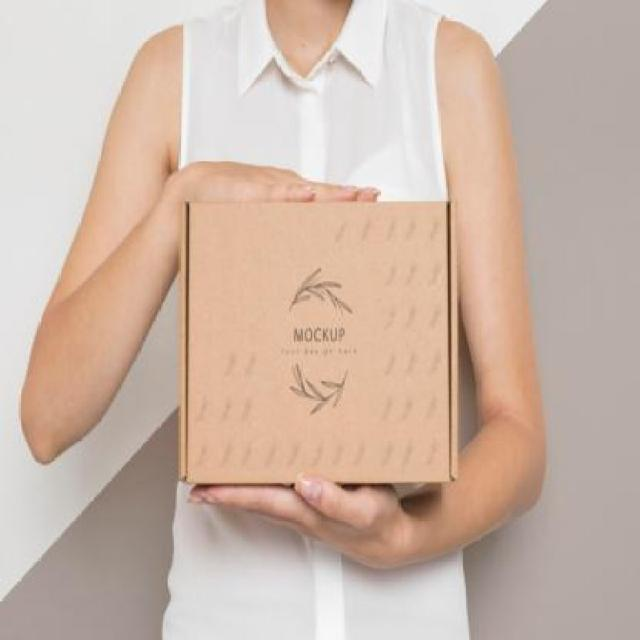box: (176, 193, 457, 493)
